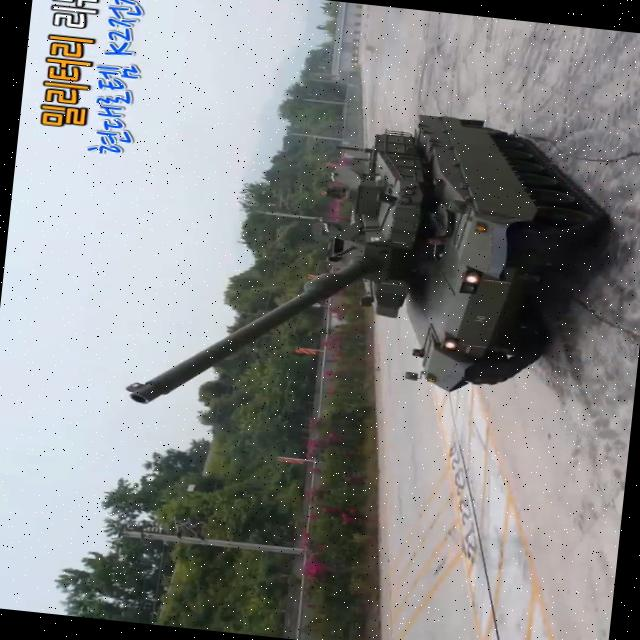korea tank: (122, 83, 621, 450)
